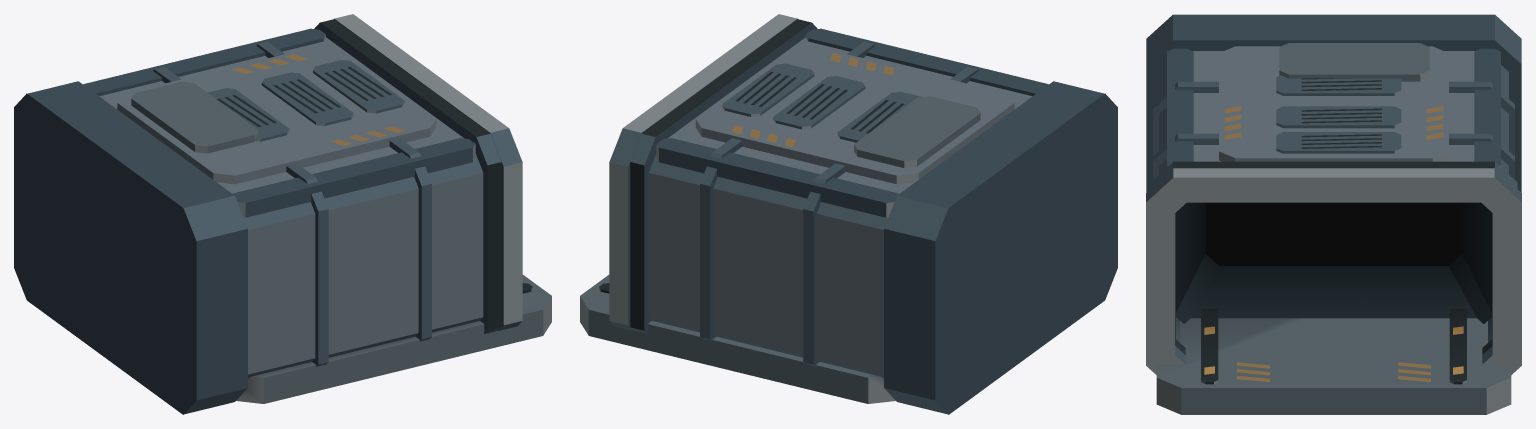
Rendered from service-bay.glb.
The picture shows the model from 3 angles, left to right: view 1: azimuth 30°, elevation 25°; view 2: azimuth 150°, elevation 25°; view 3: azimuth 270°, elevation 25°; orthographic projection. The views are drawn at different scales.
Visible parts, largest first — view 1: serviceBay-lod0; view 2: serviceBay-lod0; view 3: serviceBay-lod0.
Part boxes in pixels (<box>): serviceBay-lod0: <box>14,14,551,414</box>; serviceBay-lod0: <box>580,14,1117,414</box>; serviceBay-lod0: <box>1146,14,1521,414</box>.
Size of what is drawn, in the model's own units: 1.16 by 0.634 by 0.986.
